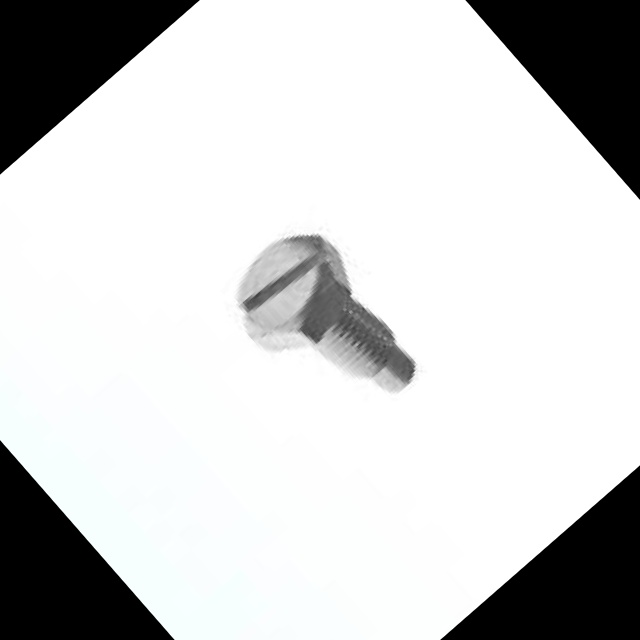duz: (211, 209, 378, 374)
